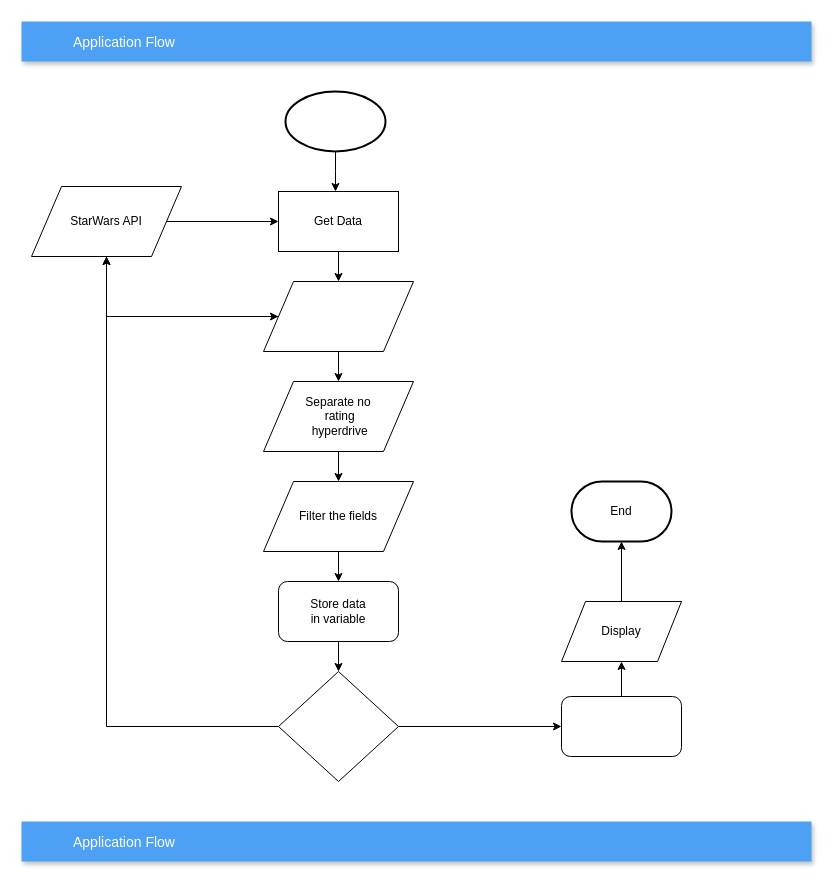
The diagram is 834 pixels wide and 885 high, and some of its shapes have lost their labels. Each missing label, with the centre of its shape:
"Create Group of starships (dict)" belongs at pixel 338 316.
"Get the data" belongs at pixel 621 726.
"Its last page" belongs at pixel 338 726.
"Start" belongs at pixel 335 121.
